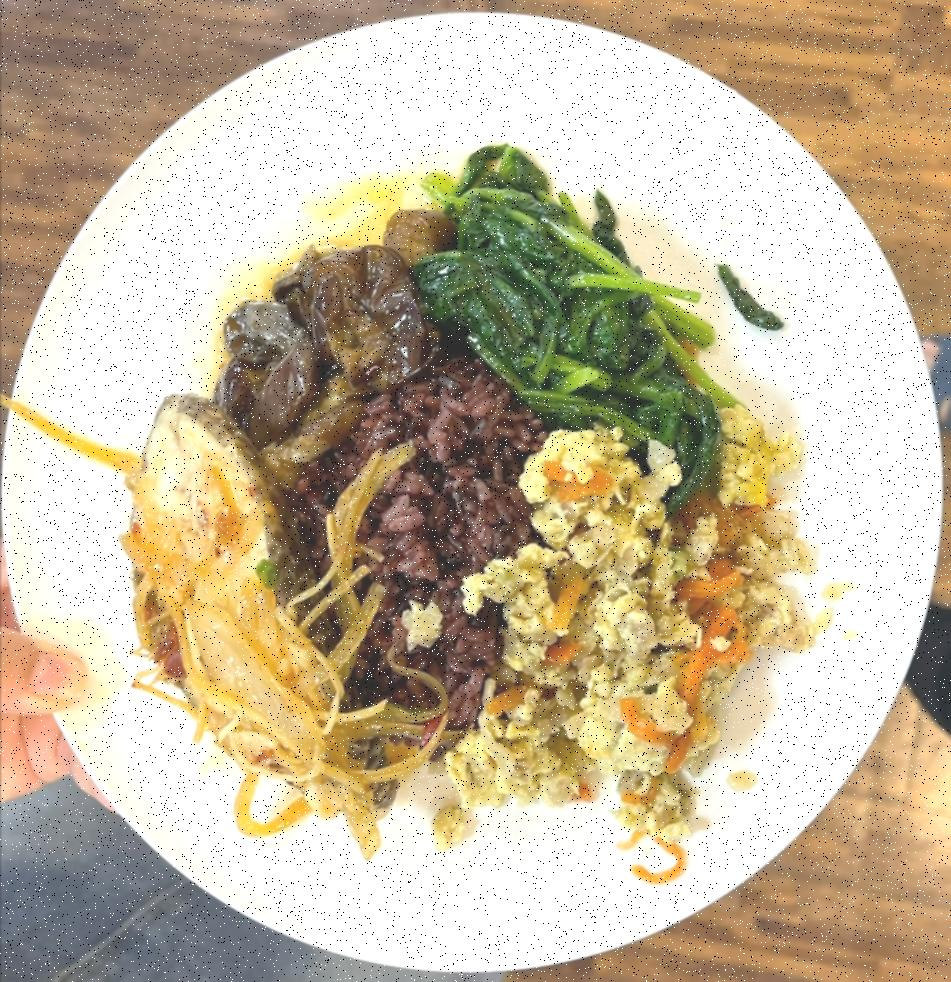big fried chicken leg: (0, 2, 943, 981)
braised fish: (350, 362, 538, 698)
braised fish fillet: (452, 413, 823, 866), (424, 142, 734, 494), (216, 213, 448, 472)
braised pork ribs: (122, 390, 390, 836)
